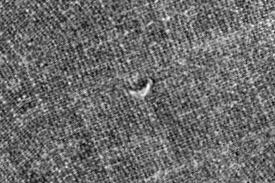snag: (125, 75, 156, 101)
